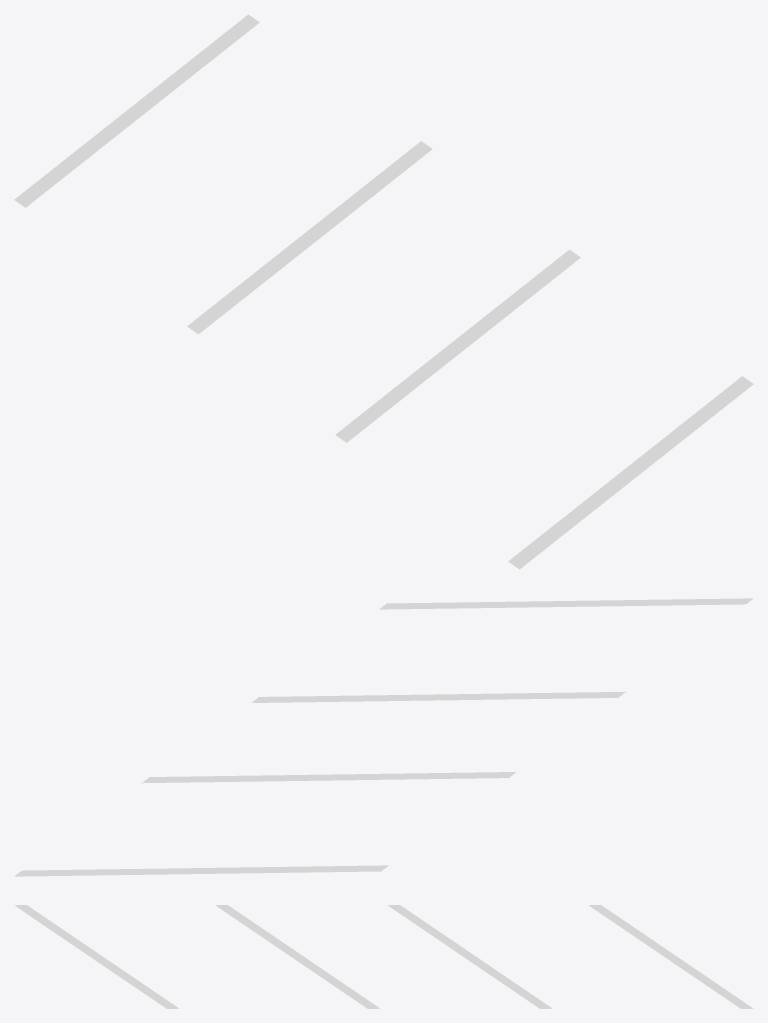
The model's file is Park-07.fbx.
3 renders of one model, top to bottom at view 1: azimuth 30°, elevation 25°; view 2: azimuth 150°, elevation 25°; view 3: azimuth 270°, elevation 25°, orthographic. The views are drawn at different scales.
Visible parts, largest first — view 1: Park-07; view 2: Park-07; view 3: Park-07.
Part boxes in pixels (box(x1,y1,x2,y2)): Park-07: box(14, 14, 753, 569); Park-07: box(14, 598, 753, 876); Park-07: box(14, 905, 753, 1008).
Size of the model in its own units: 5.8 by 0 by 17.47.
